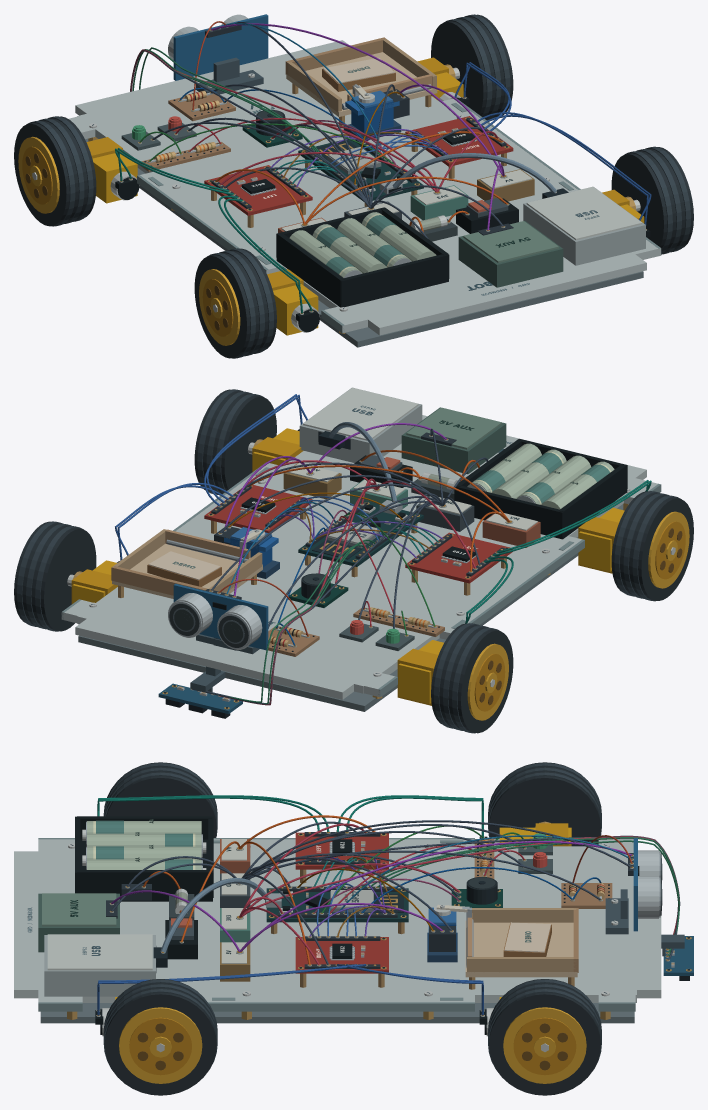
The model's file is MediBot_4WD_Circuit.glb.
The picture shows the model from 3 angles, top to bottom: view 1: azimuth 30°, elevation 25°; view 2: azimuth 150°, elevation 25°; view 3: azimuth 270°, elevation 25°; orthographic projection. The views are drawn at different scales.
Parts seen in each view (by area): view 1: 4WD chassis, Four AA NiMH cells, Rear-left TT motor, Front-left TT motor, Medicine tray and gate, Front-right TT motor, USB source for ESP32, Rear-right TT motor, HC-SR04 distance sensor, Regulated 5 V accessories, Isolated distribution terminals, TB6612FNG · left (+15 smaller); view 2: 4WD chassis, Four AA NiMH cells, Front-left TT motor, Rear-left TT motor, Front-right TT motor, Rear-right TT motor, Medicine tray and gate, USB source for ESP32, HC-SR04 distance sensor, Isolated distribution terminals, Regulated 5 V accessories, ESP32 DevKit V1 (+16 smaller); view 3: 4WD chassis, Rear-right TT motor, Front-right TT motor, Four AA NiMH cells, Medicine tray and gate, Front-left TT motor, USB source for ESP32, Rear-left TT motor, ESP32 DevKit V1, Isolated distribution terminals, Regulated 5 V accessories, TB6612FNG · right (+26 smaller).
Part boxes in pixels (x1,y1,x2,y2): 4WD chassis: [68, 40, 661, 347]; Four AA NiMH cells: [276, 207, 449, 307]; Rear-left TT motor: [194, 248, 319, 358]; Front-left TT motor: [14, 116, 139, 226]; Medicine tray and gate: [285, 37, 437, 128]; Front-right TT motor: [417, 14, 513, 120]; USB source for ESP32: [523, 186, 645, 265]; Rear-right TT motor: [602, 146, 693, 254]; HC-SR04 distance sensor: [168, 14, 268, 94]; Regulated 5 V accessories: [458, 221, 563, 287]; Isolated distribution terminals: [278, 169, 534, 232]; TB6612FNG · left: [204, 165, 312, 227]; 4WD chassis: [61, 415, 661, 711]; Four AA NiMH cells: [454, 438, 627, 539]; Front-left TT motor: [397, 623, 513, 733]; Rear-left TT motor: [578, 491, 693, 601]; Front-right TT motor: [14, 521, 119, 631]; Rear-right TT motor: [194, 389, 303, 495]; Medicine tray and gate: [111, 529, 262, 598]; USB source for ESP32: [299, 387, 422, 462]; HC-SR04 distance sensor: [168, 583, 268, 654]; Isolated distribution terminals: [283, 463, 540, 547]; Regulated 5 V accessories: [401, 407, 506, 474]; ESP32 DevKit V1: [298, 500, 423, 577]; 4WD chassis: [14, 838, 661, 1023]; Rear-right TT motor: [95, 979, 217, 1095]; Front-right TT motor: [479, 979, 601, 1095]; Four AA NiMH cells: [75, 816, 213, 901]; Medicine tray and gate: [462, 906, 578, 989]; Front-left TT motor: [479, 762, 601, 846]; USB source for ESP32: [44, 934, 167, 996]; Rear-left TT motor: [103, 762, 217, 837]; ESP32 DevKit V1: [265, 886, 408, 934]; Isolated distribution terminals: [220, 839, 250, 981]; Regulated 5 V accessories: [38, 893, 119, 952]; TB6612FNG · right: [295, 936, 388, 987].
Size of the model in its own units: 0.242 by 0.0731 by 0.292.
Materials: 2 (1 with a texture image).
